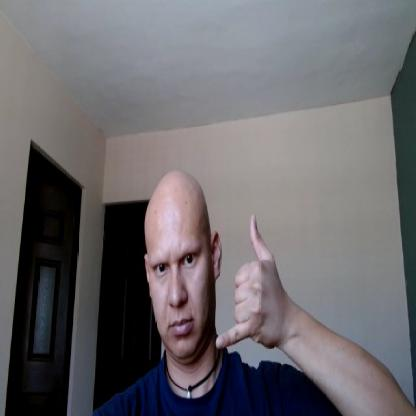Y: (214, 211, 280, 350)
